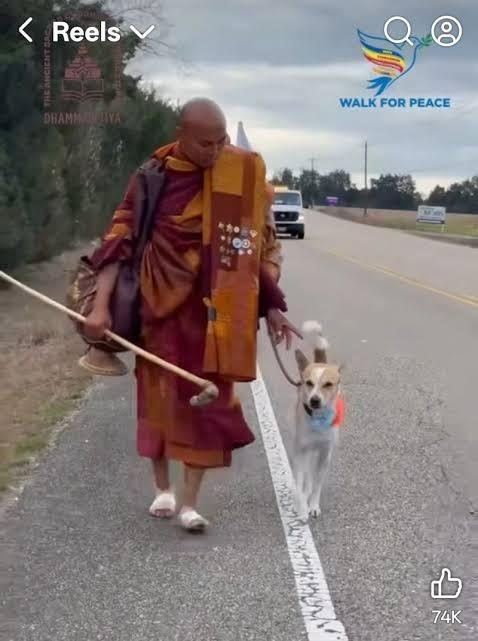adult_dog: (269, 319, 345, 528)
non-dog: (68, 98, 304, 534)
